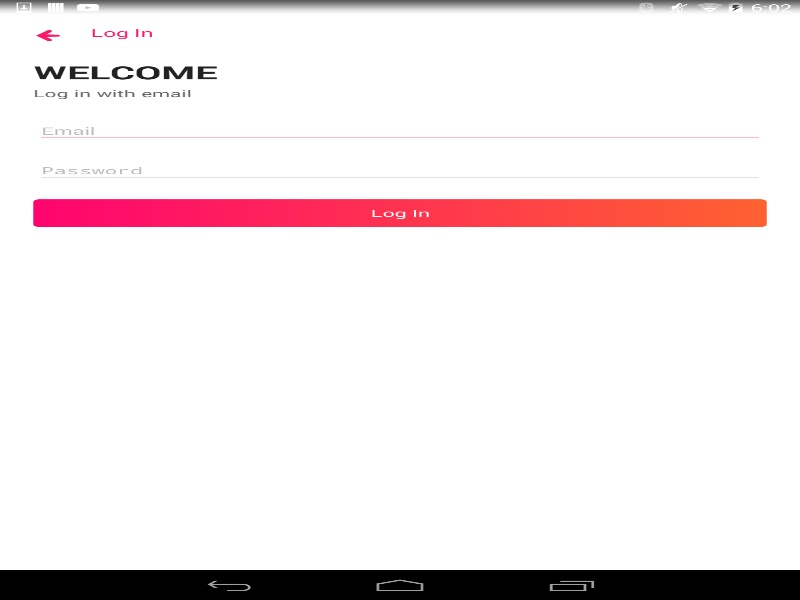Button: (10, 18, 85, 52)
Input: (41, 124, 758, 138), (41, 163, 758, 177)
